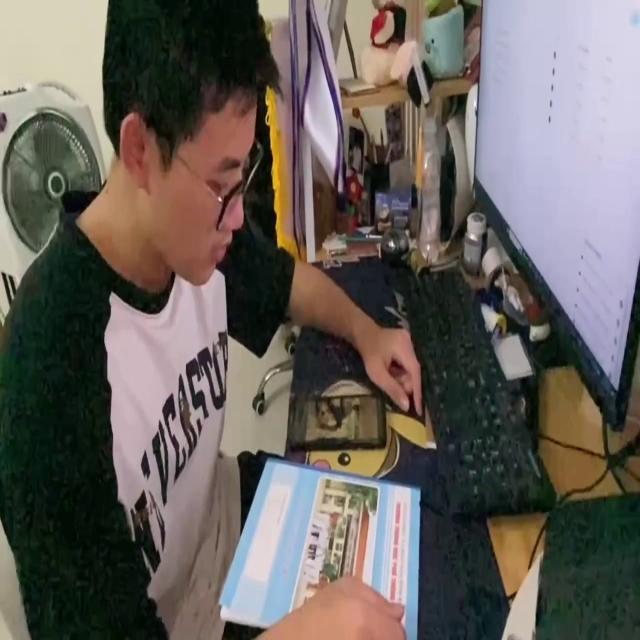book: (214, 453, 422, 640)
laptop: (471, 0, 639, 439)
phone: (288, 388, 386, 451)
student: (0, 0, 425, 640)
